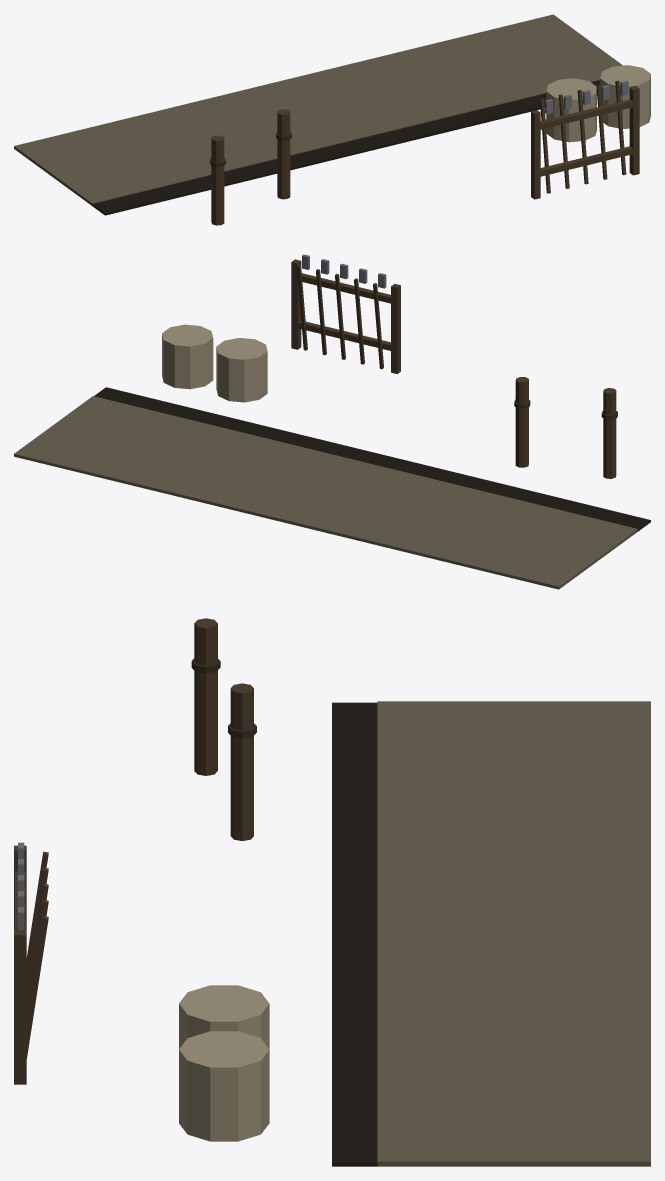
File: DressingTraining.fbx
3 views of the same model, one above another, from view 1: azimuth 30°, elevation 25°; view 2: azimuth 150°, elevation 25°; view 3: azimuth 270°, elevation 25° (orthographic). The views are drawn at different scales.
Visible parts, largest first — view 1: DressingTraining; view 2: DressingTraining; view 3: DressingTraining.
Boxes of the visible parts, bbox=[...] form: DressingTraining: bbox=[14, 14, 650, 225]; DressingTraining: bbox=[14, 254, 650, 589]; DressingTraining: bbox=[14, 618, 650, 1166].
Size of the model in its own units: 1202 by 200 by 703.
Materials: 6 (6 with a texture image).
